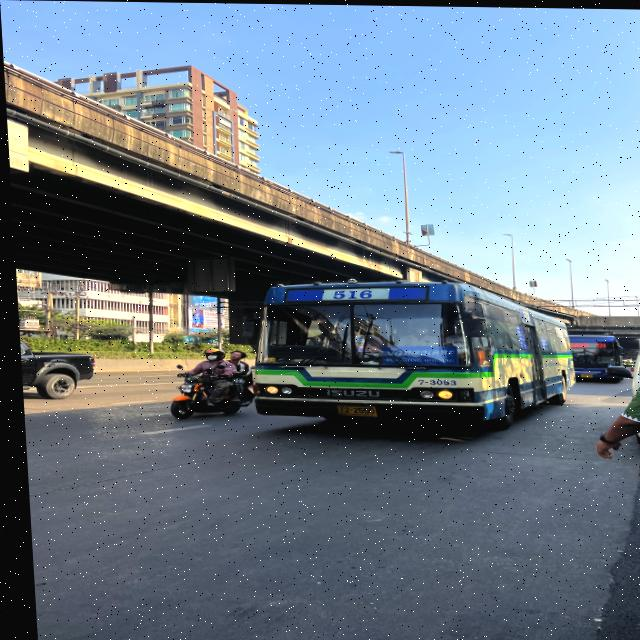BMTA-bus: (246, 282, 567, 428)
Bus Line Number: (317, 287, 388, 301), (590, 340, 606, 347)
Bus Side Number: (410, 377, 457, 386)
Destination Sign: (379, 343, 457, 365), (564, 340, 587, 347)
TSB-Bus: (565, 329, 627, 383)
